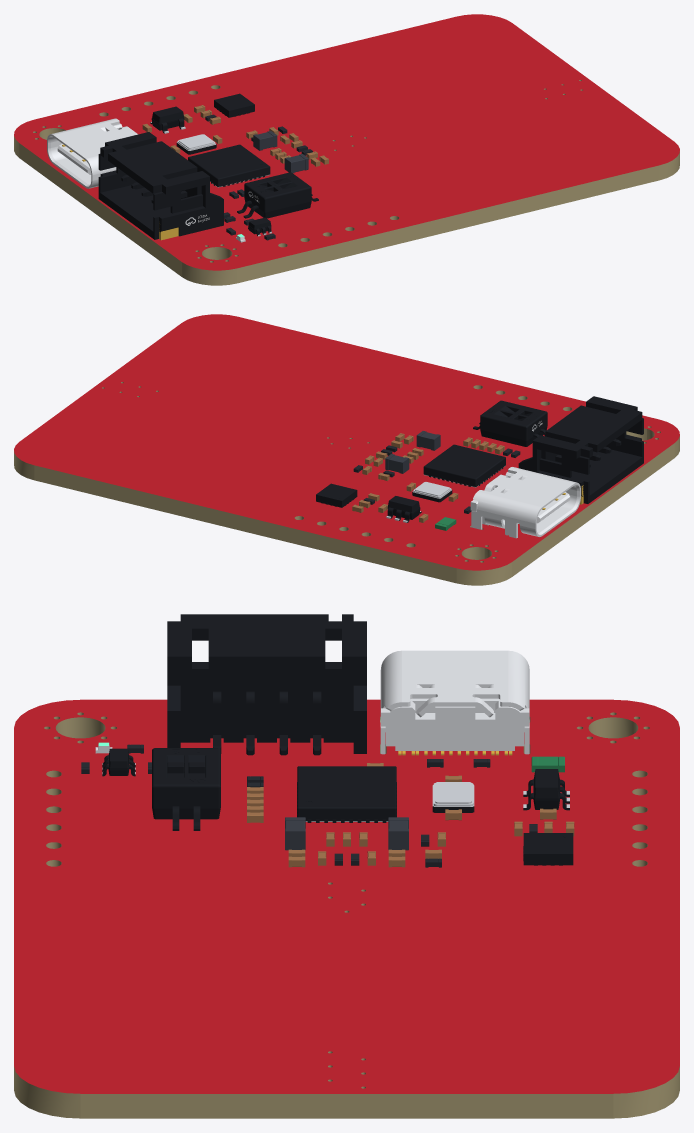
The model's file is pn532_nfc.glb.
3 renders of one model, top to bottom at view 1: azimuth 30°, elevation 25°; view 2: azimuth 150°, elevation 25°; view 3: azimuth 270°, elevation 25°, orthographic. The views are drawn at different scales.
Parts seen in each view (by area): view 1: node_pcb_red, node_matte_black, node_pcb_edge, node_satin_white, node_smd_cap_tan, node_ferrite_slate, node_smd_resistor, node_chrome_metal; view 2: node_pcb_red, node_matte_black, node_pcb_edge, node_satin_white, node_smd_cap_tan, node_ferrite_slate, node_chrome_metal, node_smd_resistor; view 3: node_pcb_red, node_matte_black, node_pcb_edge, node_satin_white, node_smd_cap_tan, node_ferrite_slate, node_smd_resistor, node_chrome_metal.
Part boxes in pixels (x1=…): node_pcb_red: x1=14, y1=14, x2=679, y2=270; node_matte_black: x1=98, y1=93, x2=318, y2=239; node_pcb_edge: x1=14, y1=80, x2=679, y2=285; node_satin_white: x1=47, y1=118, x2=253, y2=242; node_smd_cap_tan: x1=142, y1=105, x2=328, y2=166; node_ferrite_slate: x1=253, y1=131, x2=308, y2=173; node_smd_resistor: x1=205, y1=114, x2=312, y2=240; node_chrome_metal: x1=150, y1=122, x2=271, y2=236; node_pcb_red: x1=14, y1=314, x2=679, y2=570; node_matte_black: x1=316, y1=396, x2=643, y2=522; node_pcb_edge: x1=14, y1=382, x2=679, y2=585; node_satin_white: x1=470, y1=424, x2=580, y2=538; node_smd_cap_tan: x1=352, y1=433, x2=504, y2=522; node_ferrite_slate: x1=385, y1=431, x2=440, y2=473; node_chrome_metal: x1=386, y1=465, x2=505, y2=522; node_smd_resistor: x1=353, y1=445, x2=520, y2=513; node_pcb_red: x1=14, y1=699, x2=679, y2=1093; node_matte_black: x1=102, y1=614, x2=573, y2=865; node_pcb_edge: x1=14, y1=712, x2=679, y2=1118; node_satin_white: x1=95, y1=650, x2=529, y2=754; node_smd_cap_tan: x1=247, y1=763, x2=574, y2=867; node_ferrite_slate: x1=285, y1=817, x2=408, y2=850; node_smd_resistor: x1=81, y1=744, x2=537, y2=867; node_chrome_metal: x1=102, y1=763, x2=569, y2=821.
Size of the model in its own units: 0.056 by 0.00739 by 0.04.
